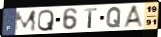6: (62, 7, 79, 32)
A: (122, 4, 145, 28)
M: (14, 9, 37, 34)
Q: (36, 8, 55, 33), (106, 6, 123, 29)
T: (84, 7, 99, 30)
